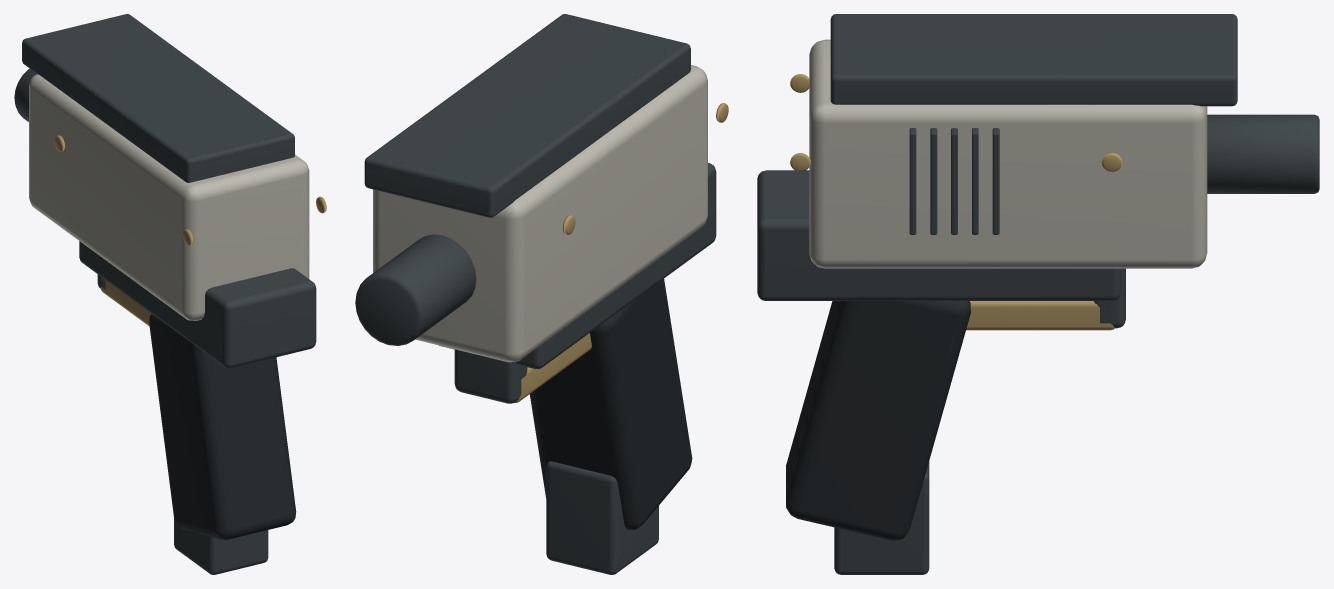
The model's file is Weapon_sidearm.glb.
3 views of the same model, side by side, from view 1: azimuth 30°, elevation 25°; view 2: azimuth 150°, elevation 25°; view 3: azimuth 270°, elevation 25° (orthographic). The views are drawn at different scales.
Parts seen in each view (by area): view 1: Weapon_sidearm, PistolSlide, ReloadMagazine; view 2: Weapon_sidearm, PistolSlide, ReloadMagazine; view 3: Weapon_sidearm, PistolSlide, ReloadMagazine.
Boxes of the visible parts, x1,y1,x2,y2 form: Weapon_sidearm: (14,68,326,539); PistolSlide: (22,14,294,182); ReloadMagazine: (174,519,268,574); Weapon_sidearm: (355,65,728,529); PistolSlide: (364,14,690,217); ReloadMagazine: (546,461,658,574); Weapon_sidearm: (757,39,1319,540); PistolSlide: (830,14,1237,234); ReloadMagazine: (834,461,929,574).
Bounding box in the file's own units: 0.114 × 0.3285 × 0.325.
